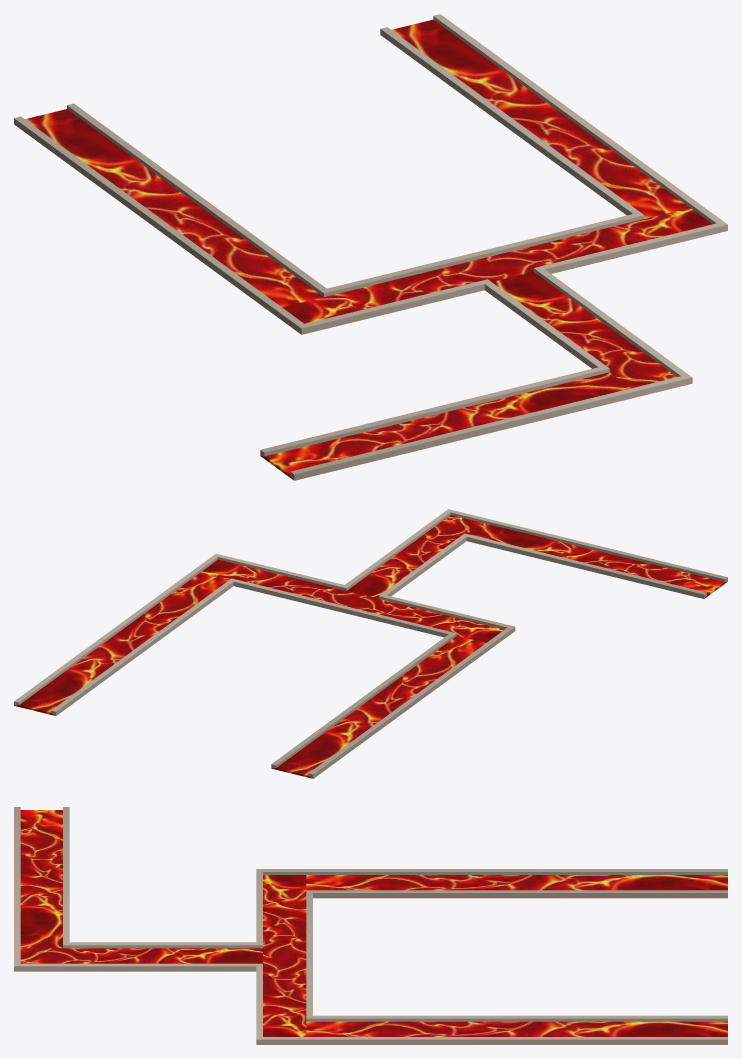
Rendered from Power Line.fbx.
3 renders of one model, top to bottom at view 1: azimuth 30°, elevation 25°; view 2: azimuth 150°, elevation 25°; view 3: azimuth 270°, elevation 25°, orthographic. The views are drawn at different scales.
Parts seen in each view (by area): view 1: Power_Line; view 2: Power_Line; view 3: Power_Line.
Boxes of the visible parts, x1,y1,x2,y2 form: Power_Line: (14, 14, 727, 480); Power_Line: (14, 509, 727, 778); Power_Line: (14, 807, 727, 1044).
Bounding box in the file's own units: 0.1633 × 0.00168 × 0.2118.
Materials: 2 (2 with a texture image).
